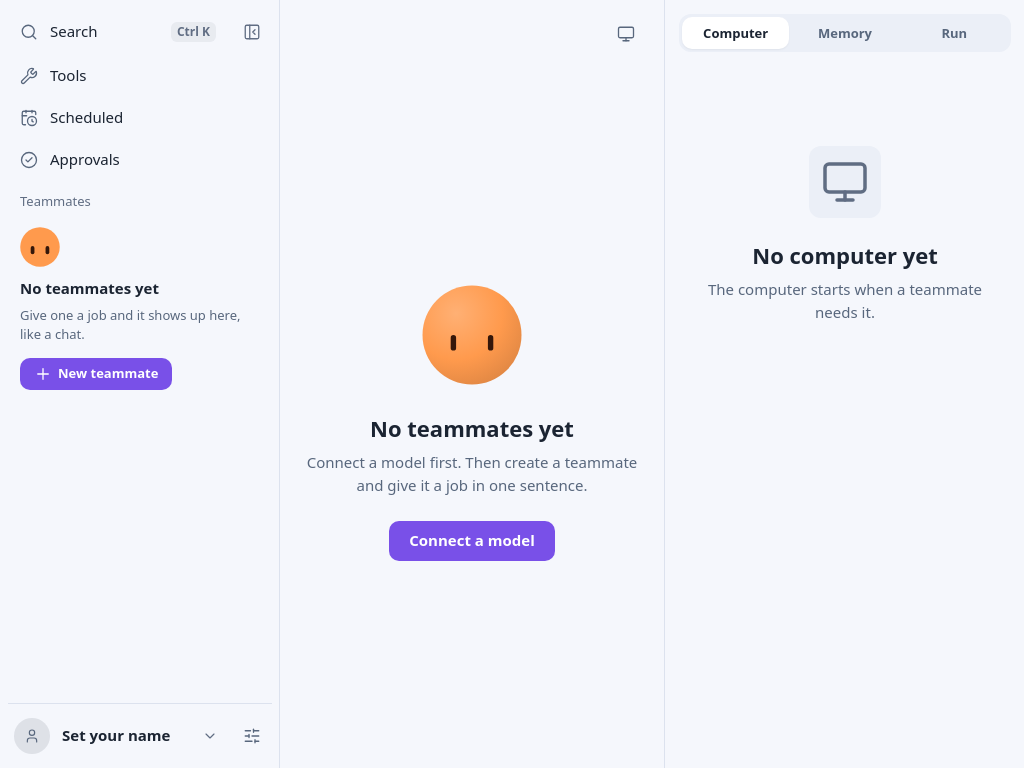
it: sidebar › starts with a Search row that shows its shortcut and opens the command palette
Click the button "Search Ctrl K".
click(118, 32)  # box [8,12,228,52]
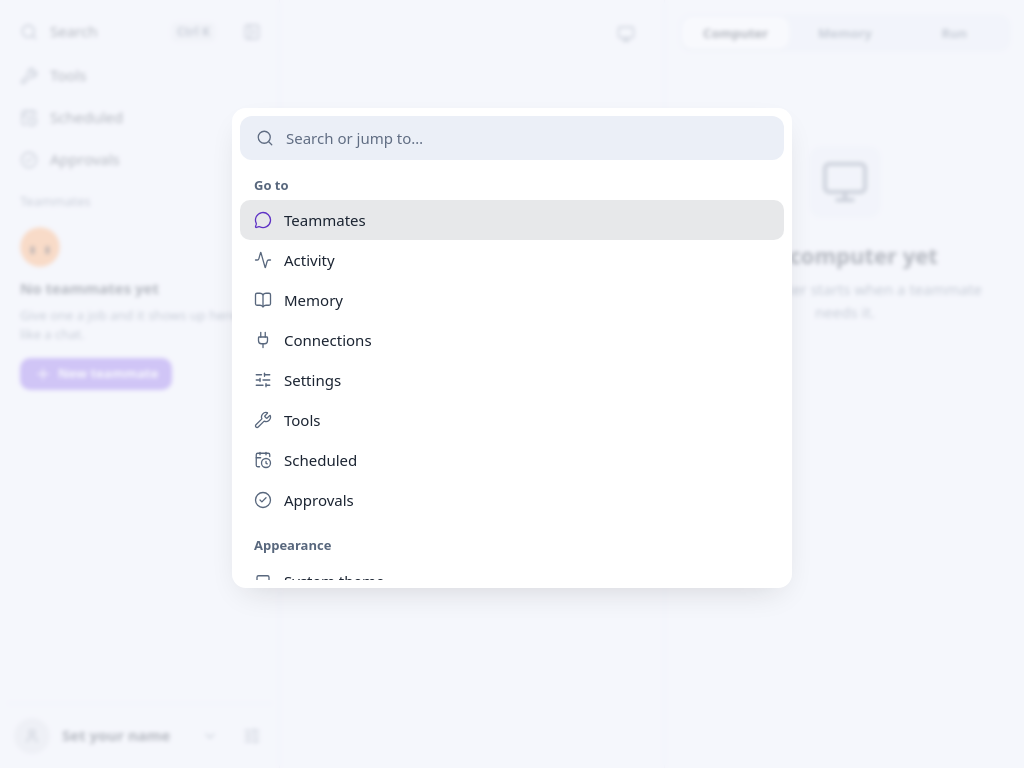
Check: the dialog named "Command palette" is shown, box [232,108,792,588]
